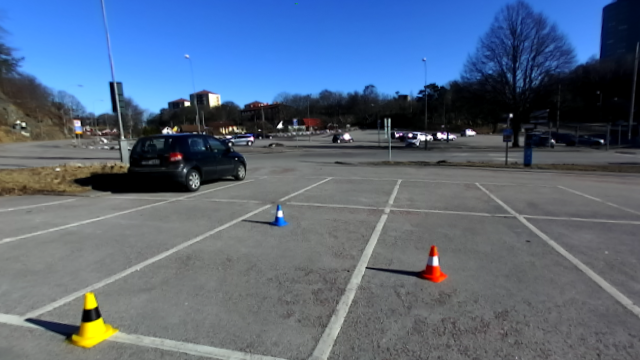blue: (270, 204, 288, 228)
orange: (417, 246, 449, 283)
yellow: (68, 291, 118, 347)
